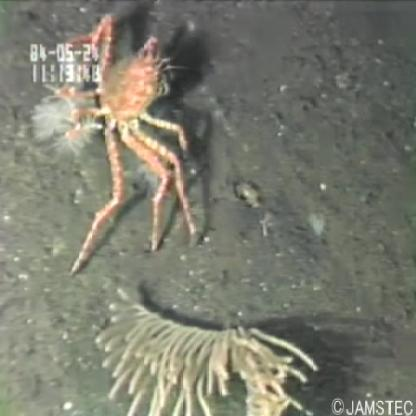Bio: (38, 7, 206, 280), (92, 281, 321, 416)
